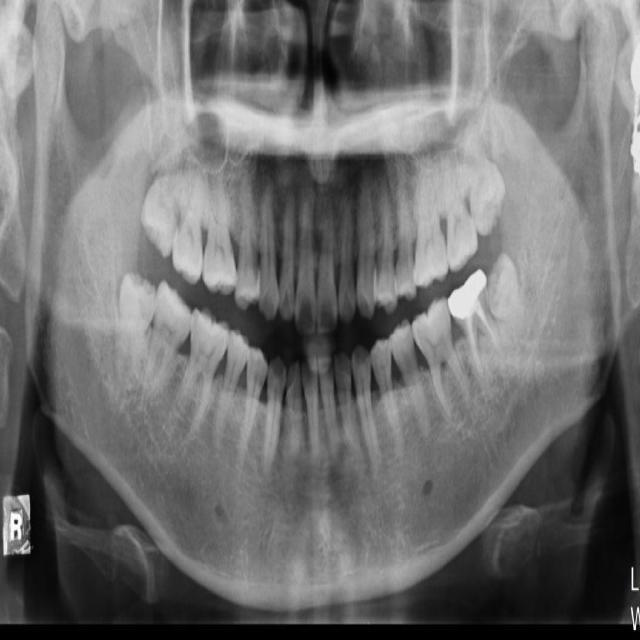Filling: (447, 268, 490, 329)
Root Canal Treatment: (479, 309, 500, 370), (472, 323, 480, 383)
impacted tooth: (460, 124, 508, 233), (117, 272, 154, 403), (491, 256, 538, 325)
